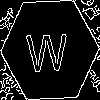W: (25, 24, 69, 72)
